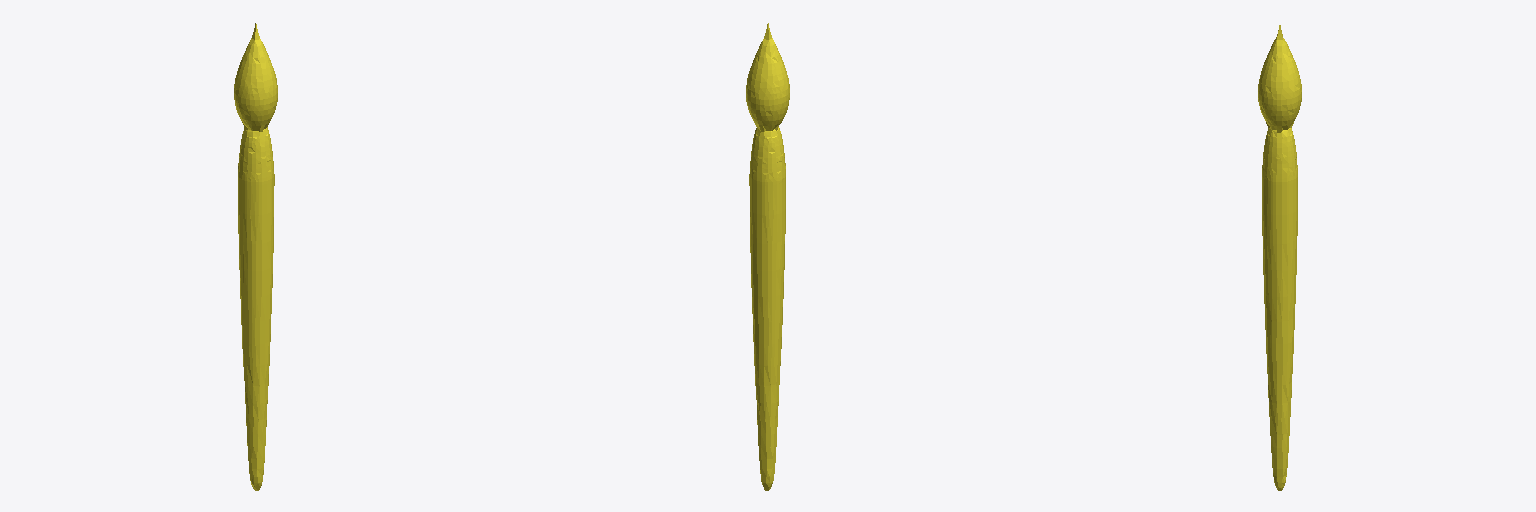
URDF robot description (panda):
<?xml version="1.0" ?>
<robot name="panda" xmlns:xacro="http://www.ros.org/wiki/xacro">
  <link name="panda_hand">
    <visual>
      <geometry>
        <mesh filename="package://franka_description/meshes/visual/hand.dae"/>
      </geometry>
    </visual>
    <collision>
      <geometry>
        <mesh filename="package://franka_description/meshes/collision/hand.obj"/>
      </geometry>
    </collision>
  </link>
  <link name="panda_leftfinger">
    <visual>
      <geometry>
        <mesh filename="package://franka_description/meshes/visual/finger.dae"/>
      </geometry>
    </visual>
    <collision>
      <geometry>
        <mesh filename="package://franka_description/meshes/collision/finger.obj"/>
      </geometry>
    </collision>
  </link>
  <link name="panda_rightfinger">
    <visual>
      <origin rpy="0 0 3.14159265359" xyz="0 0 0"/>
      <geometry>
        <mesh filename="package://franka_description/meshes/visual/finger.dae"/>
      </geometry>
    </visual>
    <collision>
      <origin rpy="0 0 3.14159265359" xyz="0 0 0"/>
      <geometry>
        <mesh filename="package://franka_description/meshes/collision/finger.obj"/>
      </geometry>
    </collision>
  </link>

  <link name="brush">
    <visual>
      <origin rpy="0 1.571 0 " xyz="0 0 0"/>
      <geometry>
        <mesh filename="package://franka_description/meshes/brush_simple.obj" scale="0.01 0.01 0.01"/>
      </geometry>
    </visual>
    <collision>
      <origin rpy="0 1.571 0 " xyz="0 0 0"/>
      <geometry>
        <mesh filename="package://franka_description/meshes/brush_simple.obj" scale="0.01 0.01 0.01"/>
      </geometry>
    </collision>
  </link>

  <joint name="panda_finger_joint1" type="prismatic">
    <parent link="panda_hand"/>
    <child link="panda_leftfinger"/>
    <origin rpy="0 0 0" xyz="0 0 0.0584"/>
    <axis xyz="0 1 0"/>
    <dynamics damping="10.0"/>
    <limit effort="20" lower="0.0" upper="0.04" velocity="0.2"/>
  </joint>
  <joint name="panda_finger_joint2" type="prismatic">
    <parent link="panda_hand"/>
    <child link="panda_rightfinger"/>
    <origin rpy="0 0 0" xyz="0 0 0.0584"/>
    <axis xyz="0 -1 0"/>
    <dynamics damping="10.0"/>
    <limit effort="20" lower="0.0" upper="0.04" velocity="0.2"/>
    <mimic joint="panda_finger_joint1"/>
  </joint>
  <joint name="panda_brush_joint" type="fixed">
    <parent link="panda_hand"/>
    <child link="brush"/>
    <origin rpy="0 0 0" xyz="0 0 0.0584"/>
  </joint>
</robot>

--- What the picture shows (computed from the rendered views, not written in the file) ---
The picture shows the robot from 3 angles, left to right: view 1: azimuth 30°, elevation 25°; view 2: azimuth 150°, elevation 25°; view 3: azimuth 270°, elevation 25°; orthographic projection.
Robot: panda — 4 links, 3 joints (2 prismatic, 1 fixed); root link panda_hand; default pose: every joint at zero.
Visible links, largest first — view 1: brush; view 2: brush; view 3: brush.
Link boxes in pixels (left/top/right/bottom): brush: left=234, top=23, right=277, bottom=490; brush: left=746, top=23, right=789, bottom=490; brush: left=1258, top=25, right=1301, bottom=490.
Bounding box of the posed robot: 0.0217 × 0.0217 × 0.2553 m (x, y, z).
Meshes: 3 distinct files referenced, 1 mesh visuals loaded (1 OBJ); not drawn: 3 (reference not matched to a file when rendering).